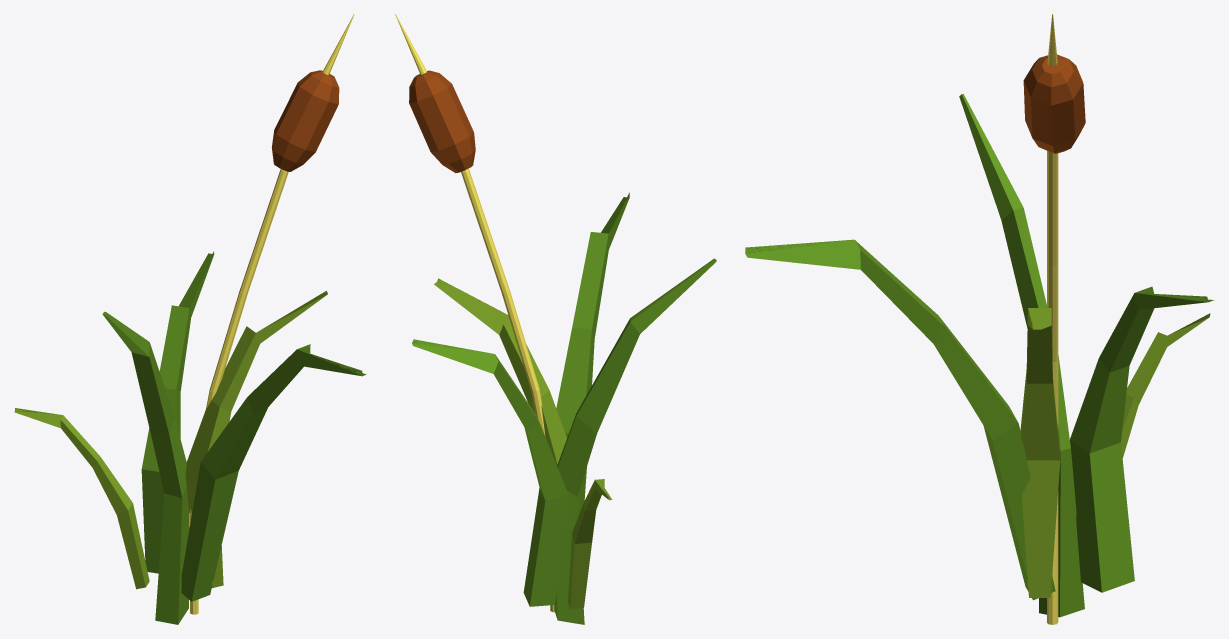
File: WaterReedPlant.fbx
The picture shows the model from 3 angles, left to right: view 1: azimuth 30°, elevation 25°; view 2: azimuth 150°, elevation 25°; view 3: azimuth 270°, elevation 25°; orthographic projection. The views are drawn at different scales.
Visible parts, largest first — view 1: Cube.004, Cube.001, FlowerPlant, Cube.005, Cube.003, Cube.006; view 2: Cube.005, FlowerPlant, Cube.001, Cube.004, Cube.003, Cube.006; view 3: Cube.005, Cube.004, Cube.003, Cube.001, FlowerPlant, Cube.006.
Part boxes in pixels (x1,y1,x2,y2): Cube.004: (181,344,366,601); Cube.001: (102,311,189,624); FlowerPlant: (190,14,354,614); Cube.005: (141,251,214,573); Cube.003: (185,291,327,587); Cube.006: (14,408,149,589); Cube.005: (412,339,568,606); FlowerPlant: (395,14,554,612); Cube.001: (554,258,716,624); Cube.004: (556,192,629,515); Cube.003: (434,278,566,465); Cube.006: (568,479,612,609); Cube.005: (1070,286,1214,592); Cube.004: (745,239,1055,600); Cube.003: (1020,308,1060,597); Cube.001: (959,94,1084,617); FlowerPlant: (1023,14,1085,624); Cube.006: (1121,313,1210,458).
Size of the model in its own units: 5.95 by 11.13 by 6.66.
